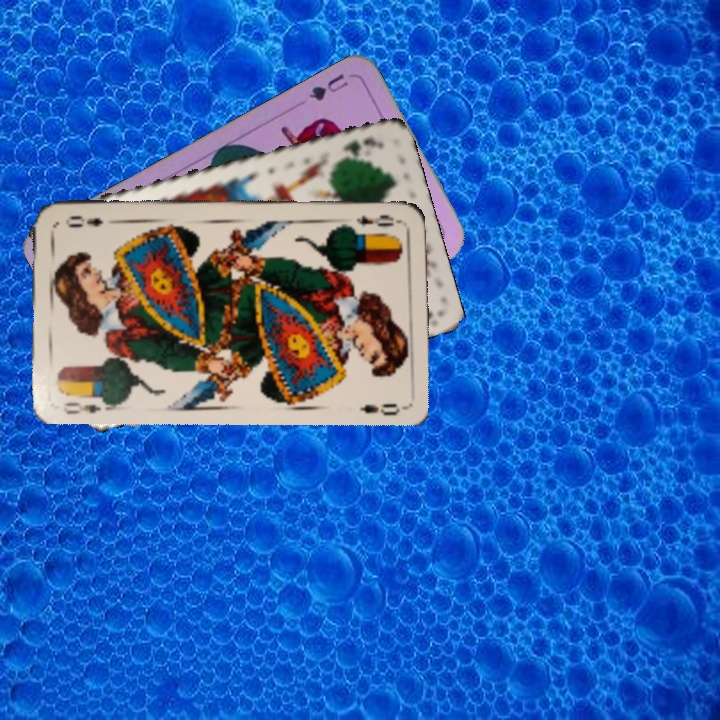EO: (59, 391, 114, 417), (352, 211, 404, 229)
GK: (334, 132, 386, 161)
GU: (305, 69, 351, 104)
